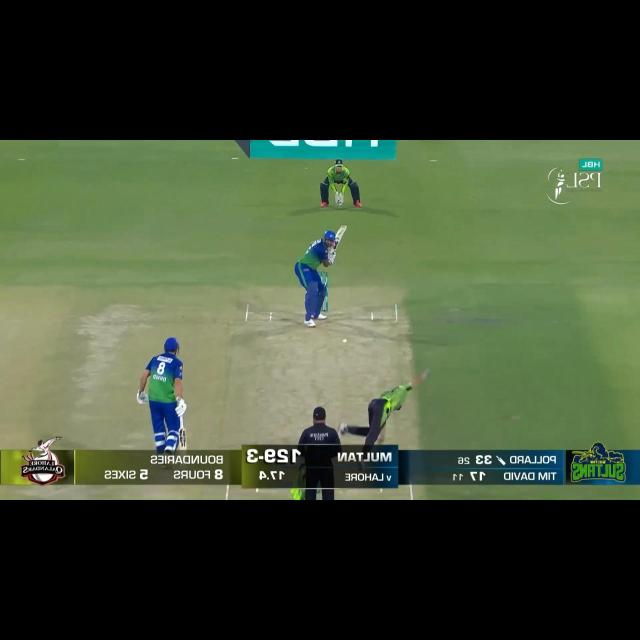bat: (329, 226, 346, 253), (177, 431, 188, 449)
toe: (338, 224, 346, 234)
